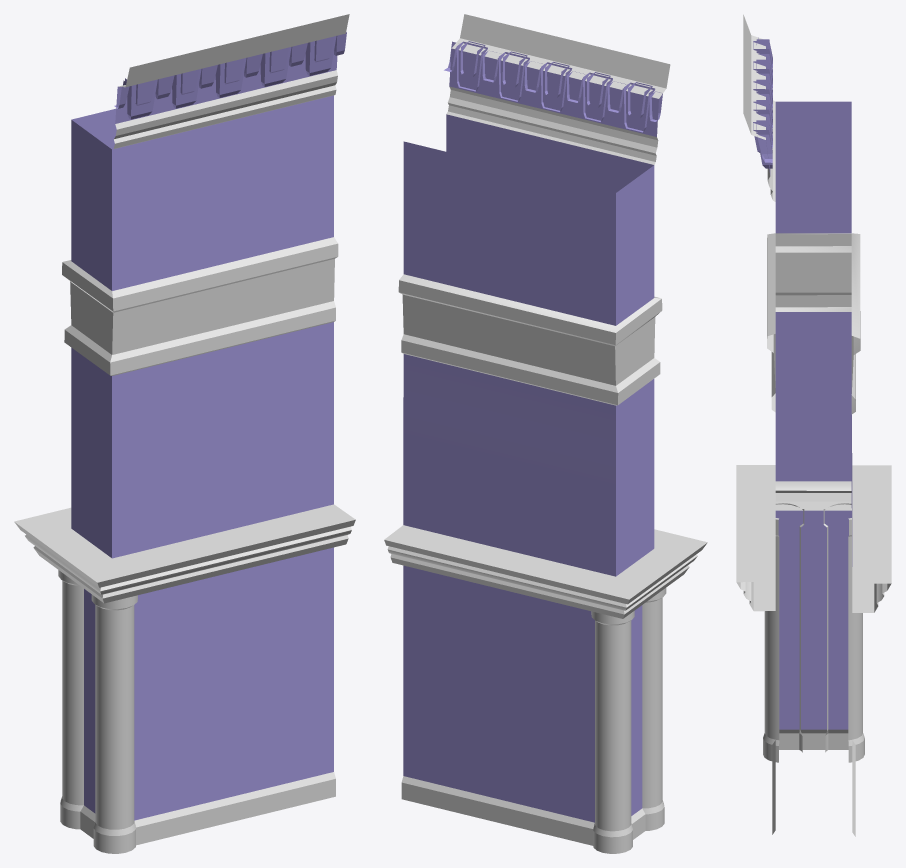
The model's file is Wall End Right.fbx.
The picture shows the model from 3 angles, left to right: view 1: azimuth 30°, elevation 25°; view 2: azimuth 150°, elevation 25°; view 3: azimuth 270°, elevation 25°; orthographic projection. The views are drawn at different scales.
Parts seen in each view (by area): view 1: Wall End Right_LOD0; view 2: Wall End Right_LOD0; view 3: Wall End Right_LOD0.
Boxes of the visible parts, x1,y1,x2,y2 form: Wall End Right_LOD0: [14, 14, 355, 853]; Wall End Right_LOD0: [384, 14, 707, 853]; Wall End Right_LOD0: [736, 14, 891, 836].
Size of what is drawn, in the model's own units: 292 by 844 by 161.
